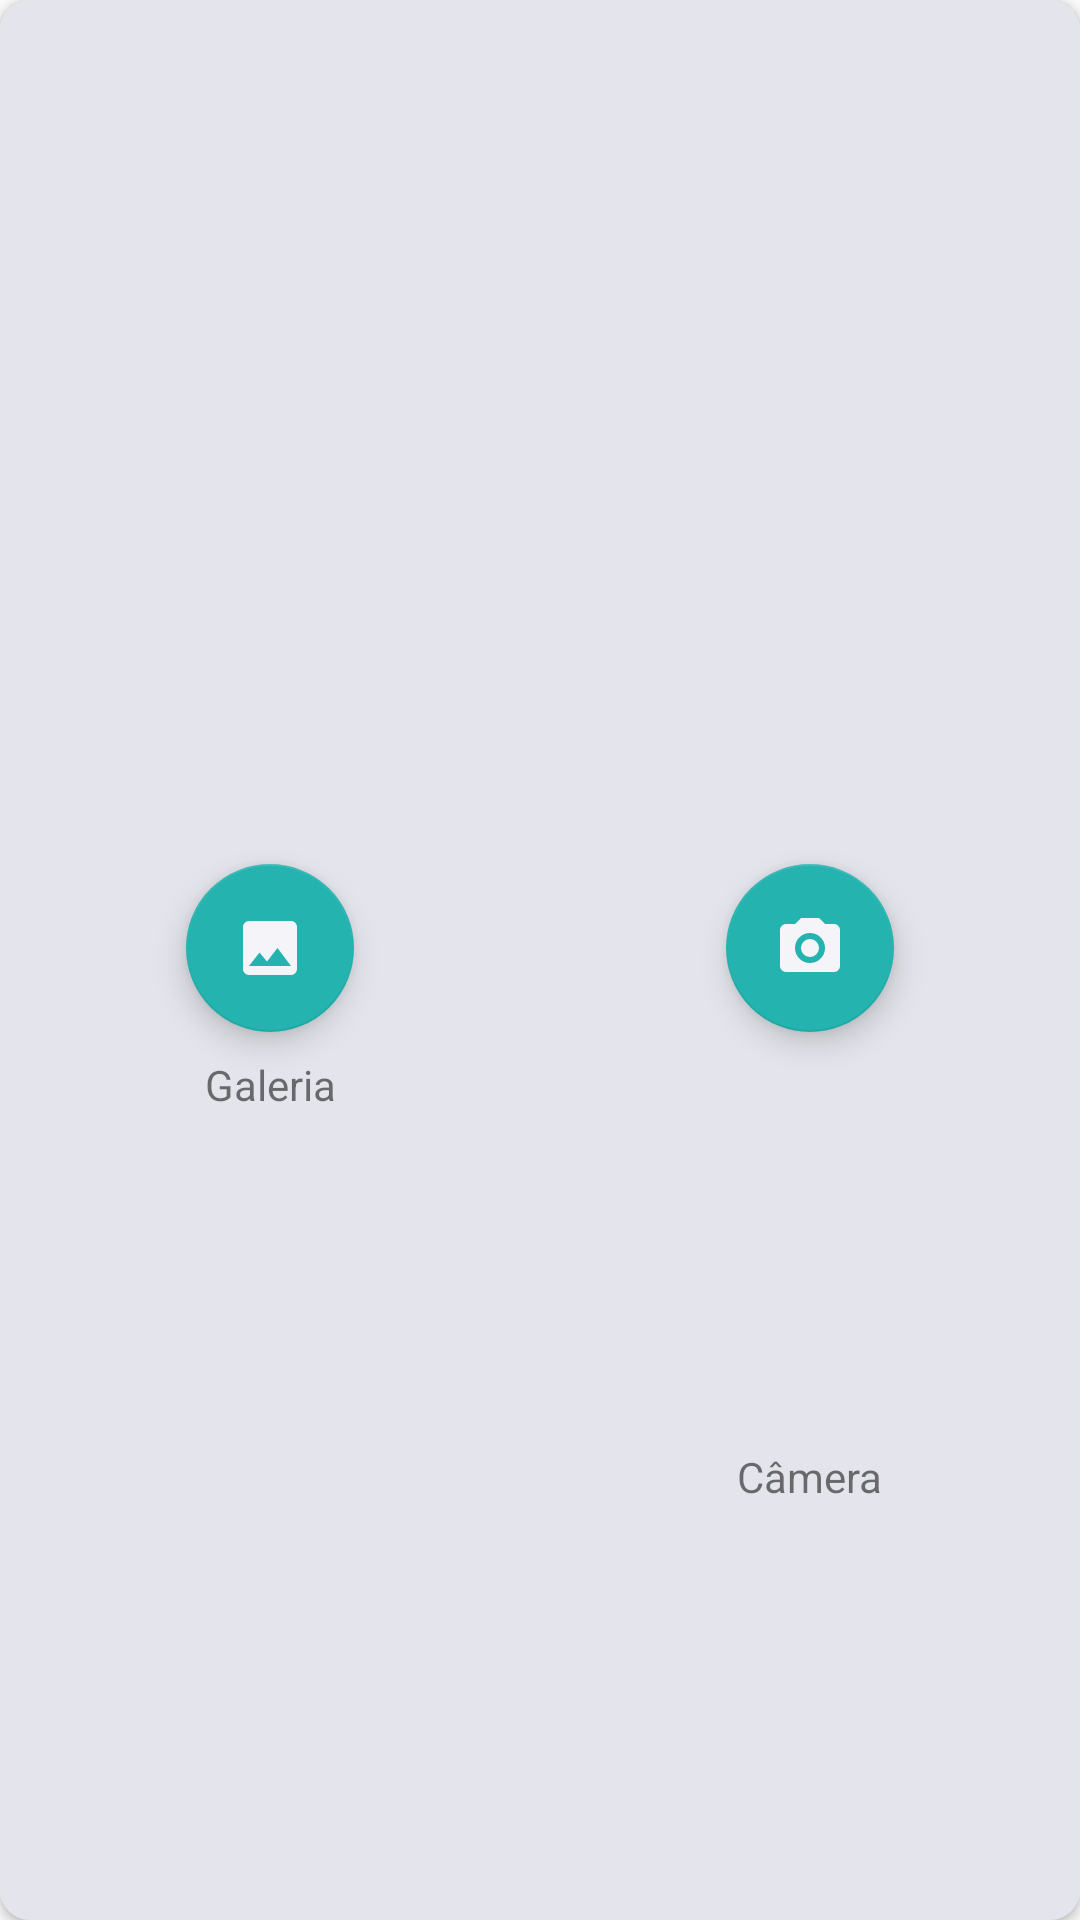

Where to tap for icons on this 1080 x 1920 app screen, as [x,y]:
camera: [810,948]
